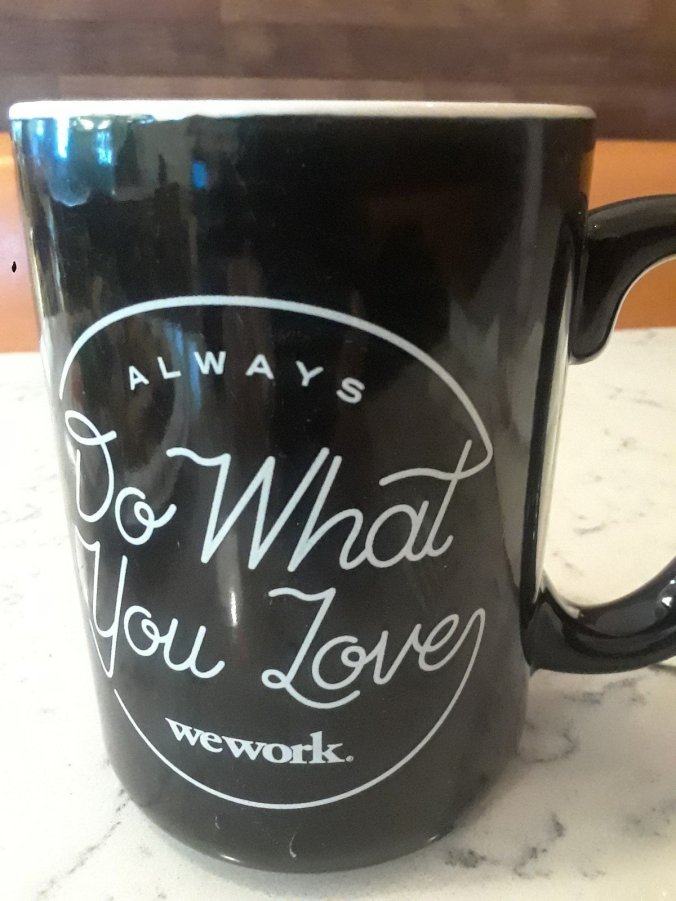wework: (162, 712, 346, 768)
